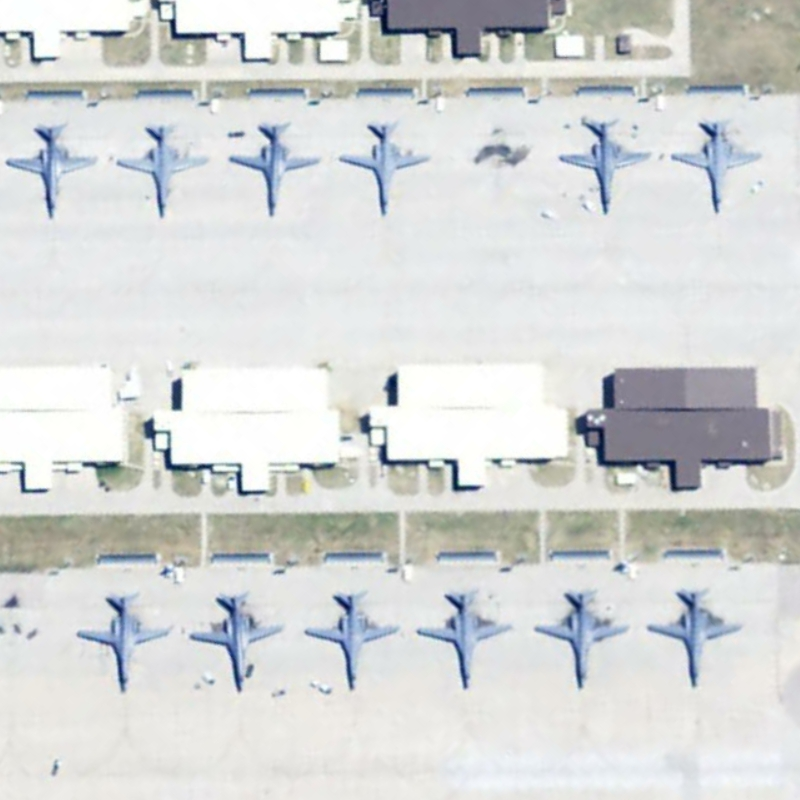A10: (297, 583, 404, 697), (183, 581, 285, 700), (414, 582, 515, 698), (532, 577, 632, 694), (556, 108, 655, 223), (646, 579, 748, 689), (335, 113, 435, 223), (76, 579, 166, 700), (112, 117, 211, 221), (223, 116, 321, 220), (671, 111, 765, 218), (5, 120, 99, 219)
